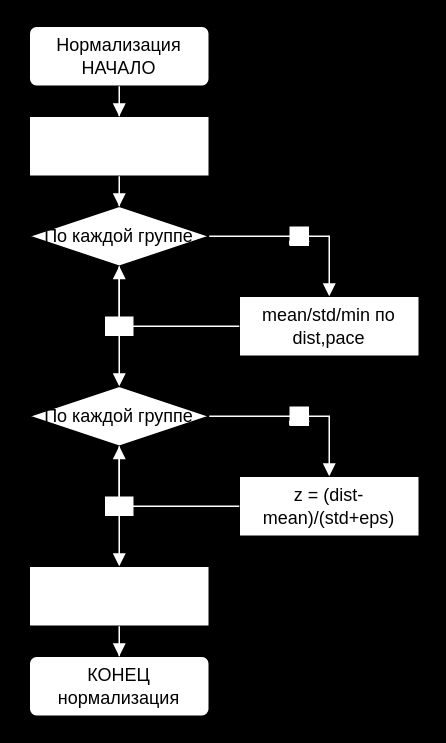
Image size: 446x743. Some labels were removed from this diagram. Each missing label, with the centre of its shape:
"save stage3_normalized.npy" belongs at point (118, 595).
"unique(athlete_id) -> группы" belongs at point (118, 145).
